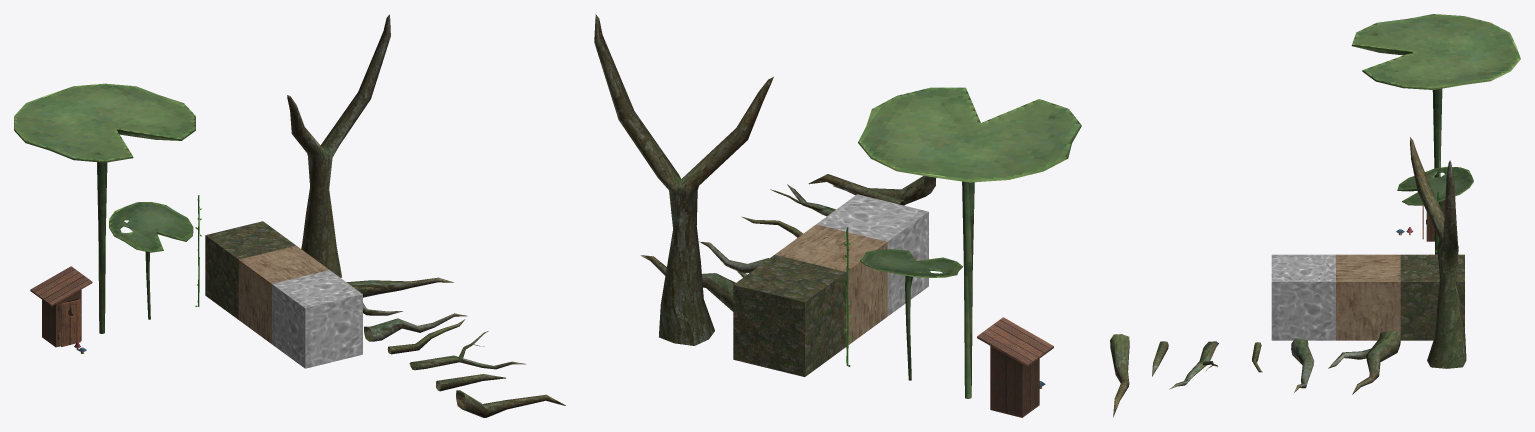
File: GorillaTagSwampAssets.fbx
3 views of the same model, side by side, from view 1: azimuth 30°, elevation 25°; view 2: azimuth 150°, elevation 25°; view 3: azimuth 270°, elevation 25° (orthographic). The views are drawn at different scales.
Parts seen in each view (by area): view 1: LilypadLarge2, Water, SwampTreeTrunk1, Grass, Rock, LilypadLarge1, Outhouse, SwampTreeBranch1, SwampTreeBranch6, SwampTreeBranch5, Outhouse_Door, SwampTreeBranch3 (+2 smaller); view 2: LilypadLarge2, Grass, SwampTreeTrunk1, Rock, Water, Outhouse, LilypadLarge1, SwampTreeBranch1, SwampTreeBranch6, SwampTreeBranch2, SwampTreeBranch5; view 3: LilypadLarge2, Water, Rock, SwampTreeTrunk1, Grass, LilypadLarge1, SwampTreeBranch6, SwampTreeBranch1, SwampTreeBranch5, SwampTreeBranch3.
Boxes of the visible parts, box(x1,y1,x2,y2) form: LilypadLarge2: box(14, 83, 195, 333); Water: box(272, 270, 362, 368); SwampTreeTrunk1: box(287, 14, 390, 277); Grass: box(205, 221, 295, 319); Rock: box(238, 245, 329, 343); LilypadLarge1: box(109, 202, 193, 319); Outhouse: box(30, 266, 92, 347); SwampTreeBranch1: box(456, 390, 565, 417); SwampTreeBranch6: box(346, 277, 453, 315); SwampTreeBranch5: box(364, 313, 466, 341); Outhouse_Door: box(61, 299, 80, 346); SwampTreeBranch3: box(409, 331, 525, 370); LilypadLarge2: box(858, 87, 1081, 398); Grass: box(733, 255, 846, 376); SwampTreeTrunk1: box(594, 14, 773, 345); Rock: box(775, 224, 887, 345); Water: box(816, 194, 928, 316); Outhouse: box(977, 317, 1053, 417); LilypadLarge1: box(860, 249, 962, 380); SwampTreeBranch1: box(808, 174, 935, 204); SwampTreeBranch6: box(640, 255, 747, 311); SwampTreeBranch2: box(833, 184, 904, 205); SwampTreeBranch5: box(699, 241, 769, 273); LilypadLarge2: box(1351, 14, 1520, 254); Water: box(1271, 254, 1335, 340); Rock: box(1336, 254, 1400, 340); SwampTreeTrunk1: box(1410, 137, 1466, 368); Grass: box(1400, 254, 1464, 340); LilypadLarge1: box(1397, 166, 1473, 254); SwampTreeBranch6: box(1328, 330, 1400, 394); SwampTreeBranch1: box(1110, 334, 1129, 417); SwampTreeBranch5: box(1291, 338, 1314, 392); SwampTreeBranch3: box(1169, 341, 1218, 389).
Size of the model in its own units: 2011 by 1318 by 1911.
